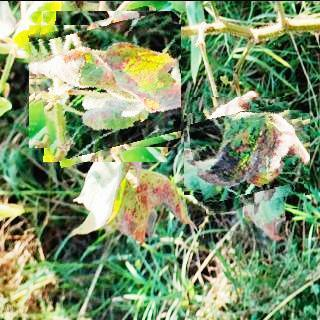blight: (29, 10, 181, 161), (190, 96, 305, 210)
